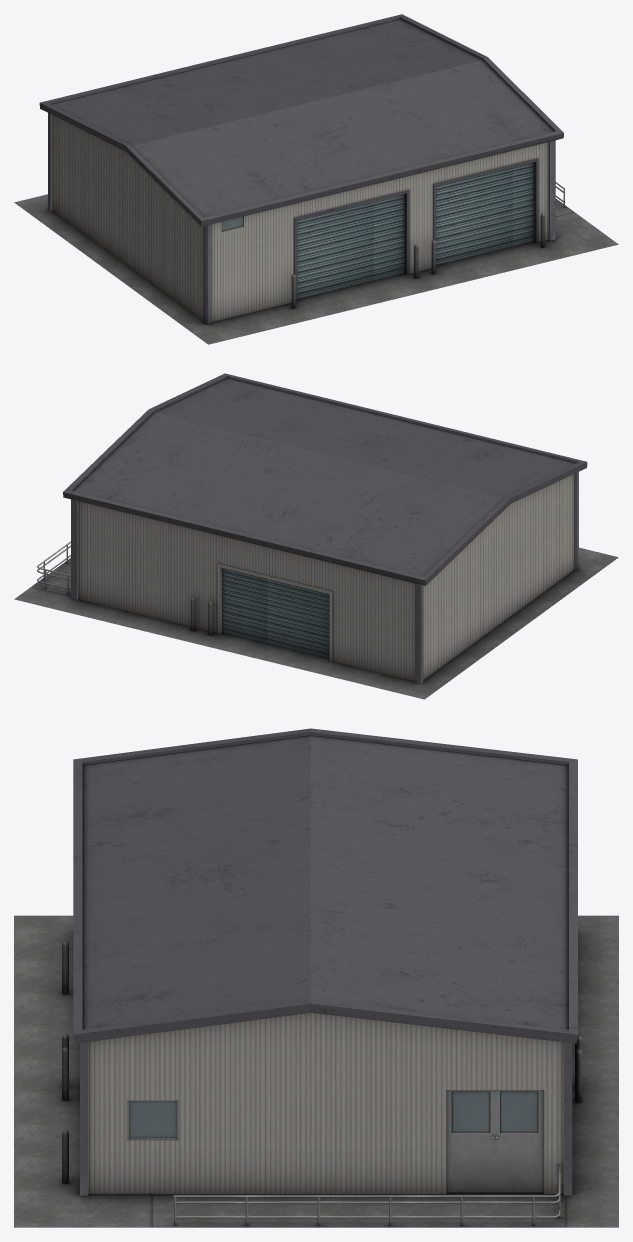
File: Warehouse.fbx
The picture shows the model from 3 angles, top to bottom: view 1: azimuth 30°, elevation 25°; view 2: azimuth 150°, elevation 25°; view 3: azimuth 270°, elevation 25°; orthographic projection. The views are drawn at different scales.
Parts seen in each view (by area): view 1: polySurface2, polySurface1, pPlane1, pCube9, pCylinder18; view 2: polySurface2, polySurface1, pPlane1, pCube9, pCylinder19; view 3: polySurface2, polySurface1, pPlane1, polySurface5, pCylinder19, pCube9, pCylinder18.
Boxes of the visible parts, x1,y1,x2,y2 form: polySurface2: [39, 14, 563, 226]; polySurface1: [52, 115, 548, 321]; pPlane1: [14, 194, 618, 344]; pCube9: [48, 113, 555, 324]; pCylinder18: [291, 213, 545, 308]; polySurface2: [63, 373, 587, 585]; polySurface1: [78, 474, 574, 680]; pPlane1: [14, 547, 618, 699]; pCube9: [71, 472, 578, 683]; pCylinder19: [37, 541, 70, 593]; polySurface2: [73, 728, 577, 1043]; polySurface1: [88, 1012, 563, 1193]; pPlane1: [14, 915, 618, 1227]; polySurface5: [446, 1090, 543, 1193]; pCylinder19: [173, 1164, 560, 1225]; pCube9: [80, 1042, 572, 1195]; pCylinder18: [62, 941, 582, 1183].
Size of the model in its own units: 22.42 by 6.59 by 18.38.
